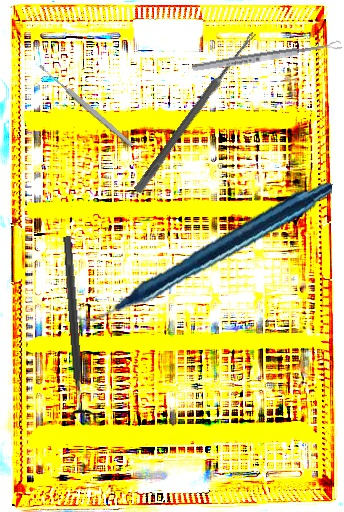Fixation Ring: (53, 235, 98, 420)
Handpiece: (75, 154, 333, 349)
Surgical Spoon: (133, 29, 258, 195), (37, 62, 135, 149), (191, 39, 343, 74)
